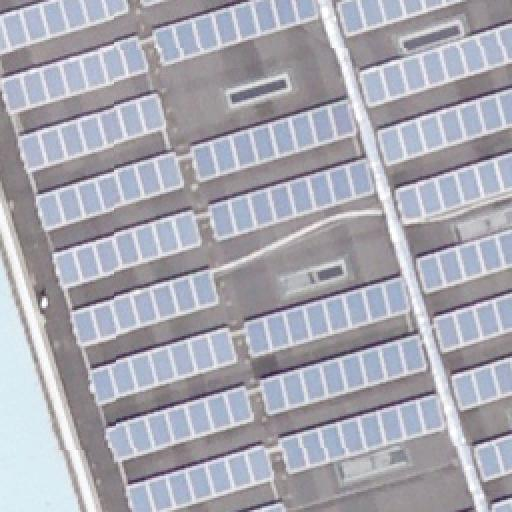solar-panel: (188, 96, 360, 184), (207, 156, 377, 244), (244, 273, 412, 359), (277, 391, 451, 473), (258, 331, 430, 413), (87, 324, 241, 408), (35, 150, 189, 234), (358, 22, 512, 106), (0, 35, 154, 117), (50, 208, 206, 288), (70, 267, 222, 349), (20, 91, 168, 173), (104, 385, 256, 463), (152, 1, 320, 71), (124, 441, 276, 511), (376, 89, 512, 167), (393, 150, 511, 226), (0, 1, 132, 55), (416, 227, 512, 293), (432, 288, 512, 356), (337, 1, 471, 39), (449, 355, 511, 413), (472, 435, 512, 485), (247, 500, 289, 512), (492, 496, 512, 512), (141, 0, 171, 8)
